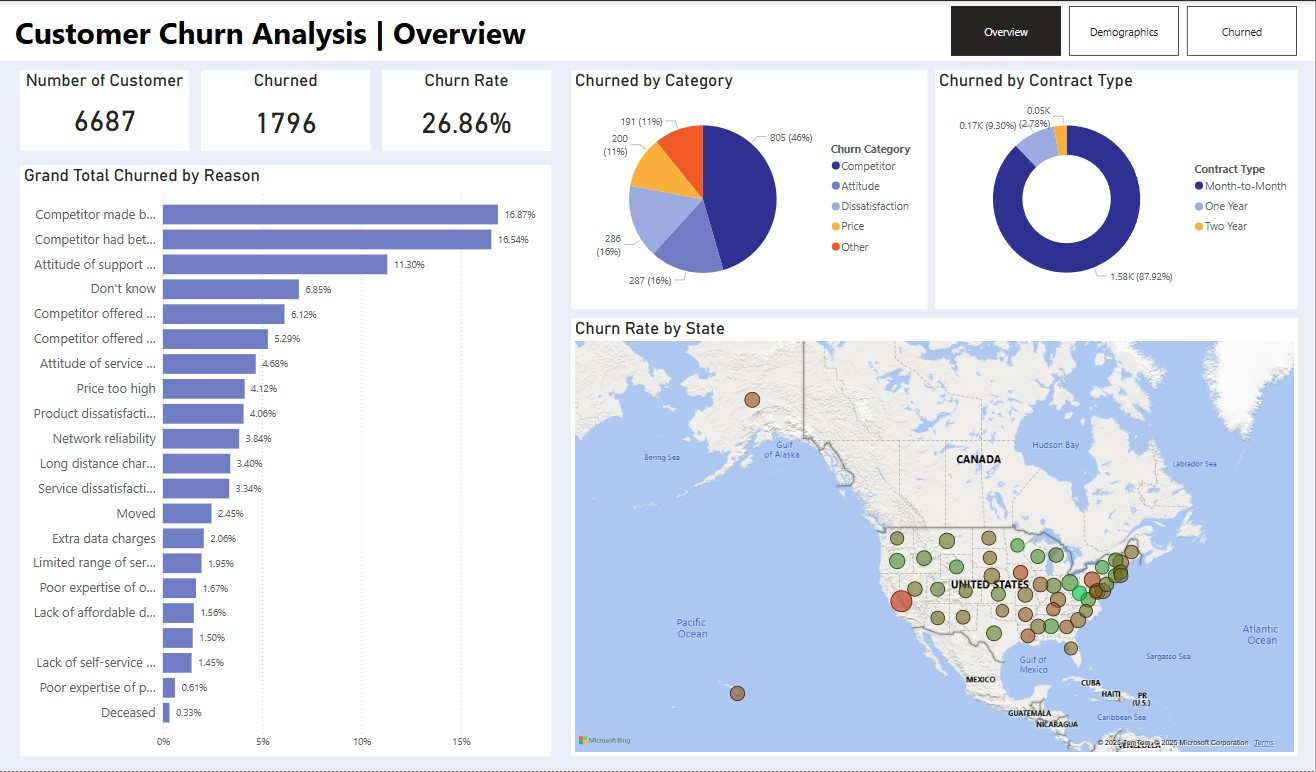

Layout of this report page (visuals, bound fields, positions):
{"tool":"powerbi","page":{"name":"Overview","canvas":[1640,960],"ordinal":0},"visuals":[{"type":"card","title":"Number of Customer","fields":{"Values":["_Measure.NumberofCustomer"]},"box":[26.2,86,210.6,100.9],"z":0},{"type":"card","title":"Churned","fields":{"Values":["Sum(_Measure.NumberofChurned)"]},"box":[251.7,86,210.6,100.9],"z":1000},{"type":"card","title":"Churn Rate","fields":{"Values":["_Measure.ChurnRate"]},"box":[477.3,86,210.6,100.9],"z":2000},{"type":"clusteredBarChart","title":"Grand Total Churned by Reason","fields":{"Category":["Databel - Data.Churn Reason"],"Y":["_Measure.NumberofCustomer"]},"box":[26.2,204.4,661.7,736.5],"z":3000},{"type":"pieChart","title":"Churned by Category","fields":{"Category":["Databel - Data.Churn Category"],"Y":["_Measure.NumberofCustomer"]},"box":[712.8,86,443.6,297.8],"z":4000},{"type":"map","title":"Churn Rate by State","fields":{"Category":["Databel - Data.State"],"Size":["_Measure.ChurnRate"]},"box":[712.8,395,906,545.8],"z":5000},{"type":"donutChart","title":"Churned by Contract Type","fields":{"Y":["_Measure.NumberofCustomer"],"Category":["Databel - Data.Contract Type"]},"box":[1166.4,86,452.4,297.8],"z":6000},{"type":"shape","box":[0,0,1640,74.8],"z":7000},{"type":"pageNavigator","box":[1186.4,6.2,432.4,62.3],"z":8000}]}

Visuals, with their boxes in screenshot pixels (x1, y1, x2, y2), scaled from the page's 1640x960 canvas onto the 1316x772 screenshot:
"Number of Customer" card: (left=21, top=69, right=190, bottom=150)
"Churned" card: (left=202, top=69, right=371, bottom=150)
"Churn Rate" card: (left=383, top=69, right=552, bottom=150)
"Grand Total Churned by Reason" clusteredBarChart: (left=21, top=164, right=552, bottom=757)
"Churned by Category" pieChart: (left=572, top=69, right=928, bottom=309)
"Churn Rate by State" map: (left=572, top=318, right=1299, bottom=757)
"Churned by Contract Type" donutChart: (left=936, top=69, right=1299, bottom=309)
shape: (left=0, top=0, right=1315, bottom=60)
pageNavigator: (left=952, top=5, right=1299, bottom=55)
